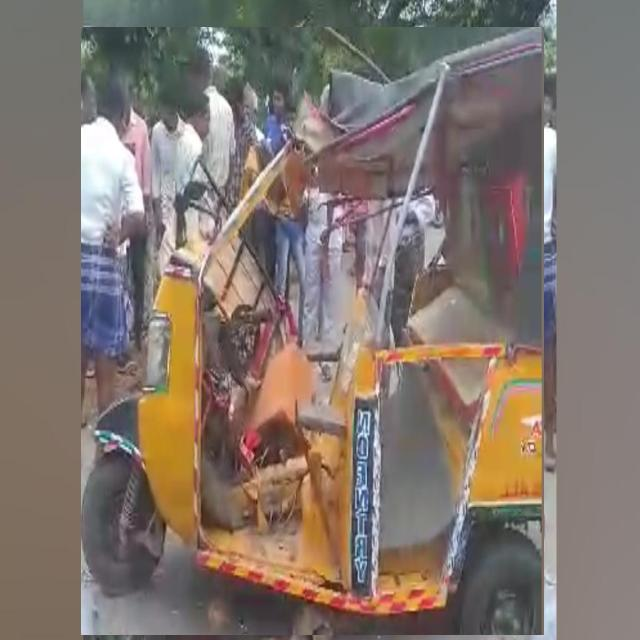accident: (81, 27, 544, 635)
